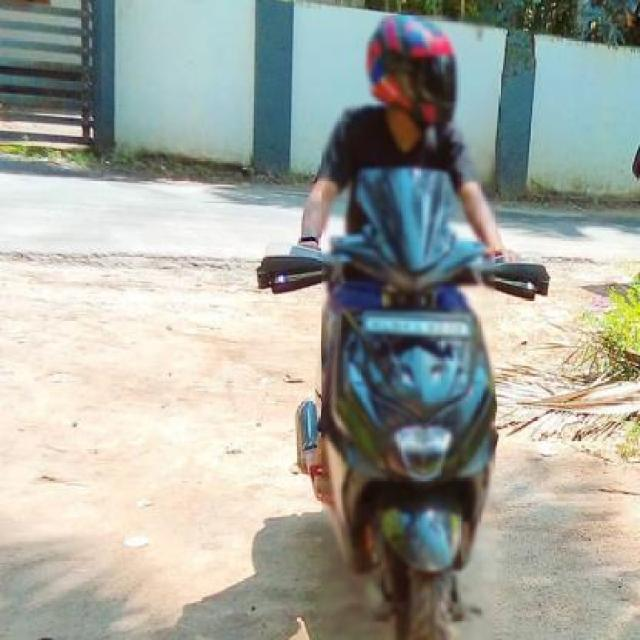helmet: (358, 12, 476, 142)
motorcycle: (265, 11, 589, 640)
